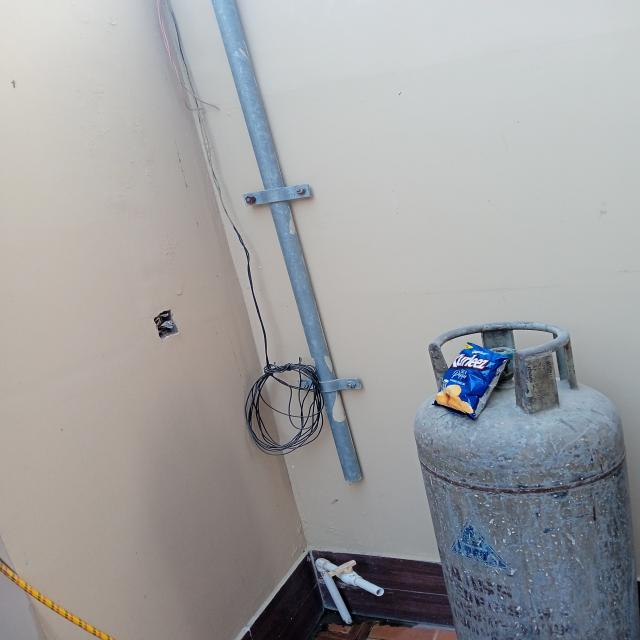Plastic: (427, 340, 515, 422)
